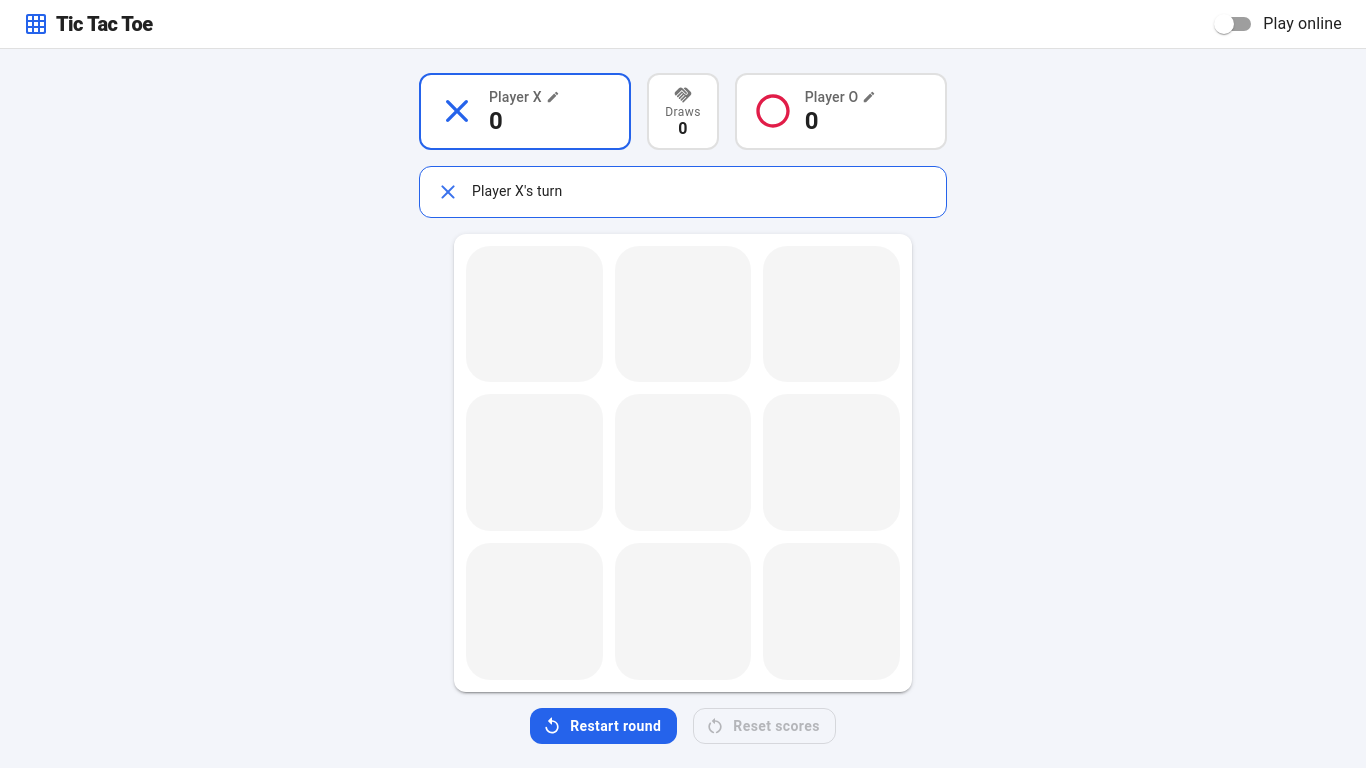
Main Component › renames a player from their card
The width and height of the screenshot is (1366, 768).
Click the button named "Edit name for player X" at (553, 97), box [544,88,562,106]
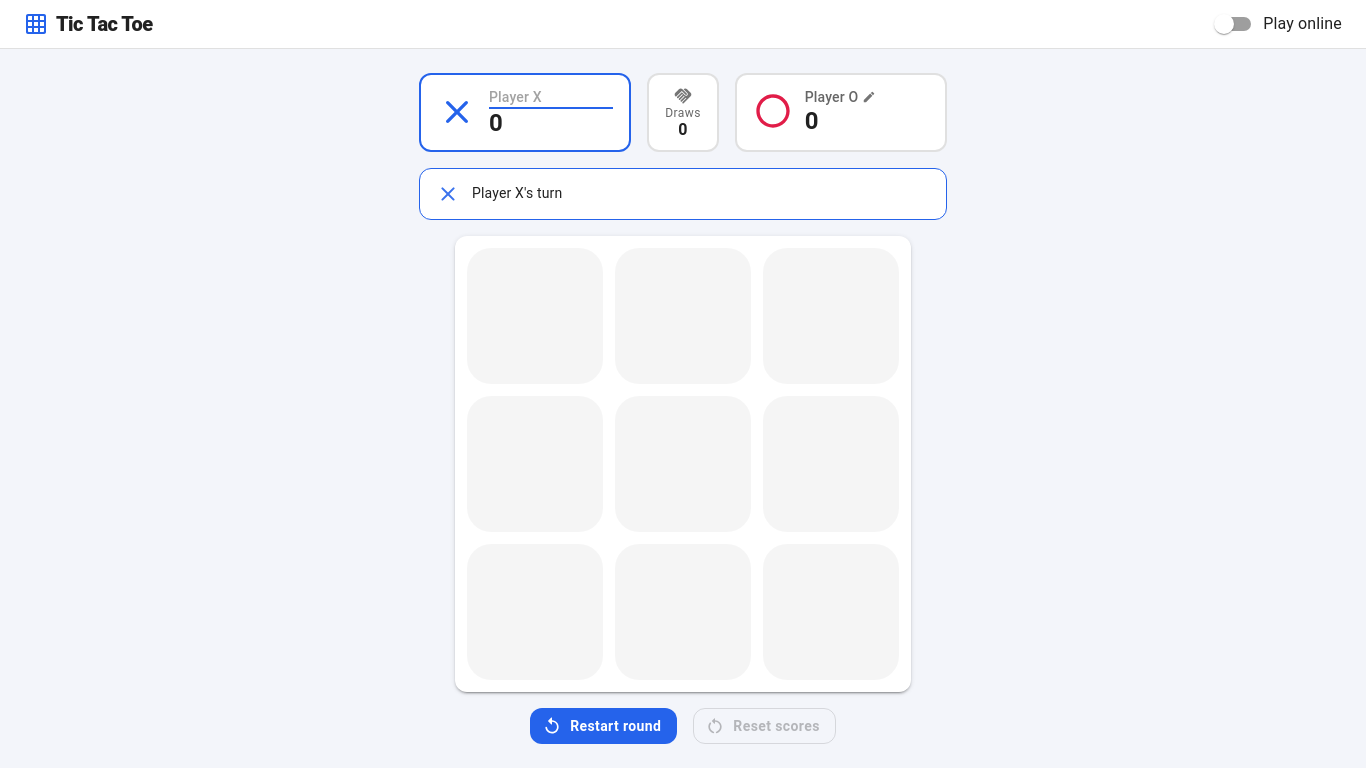
Type "Ada" into the field with placeholder "Player X" at (551, 97), box [489,87,613,107]
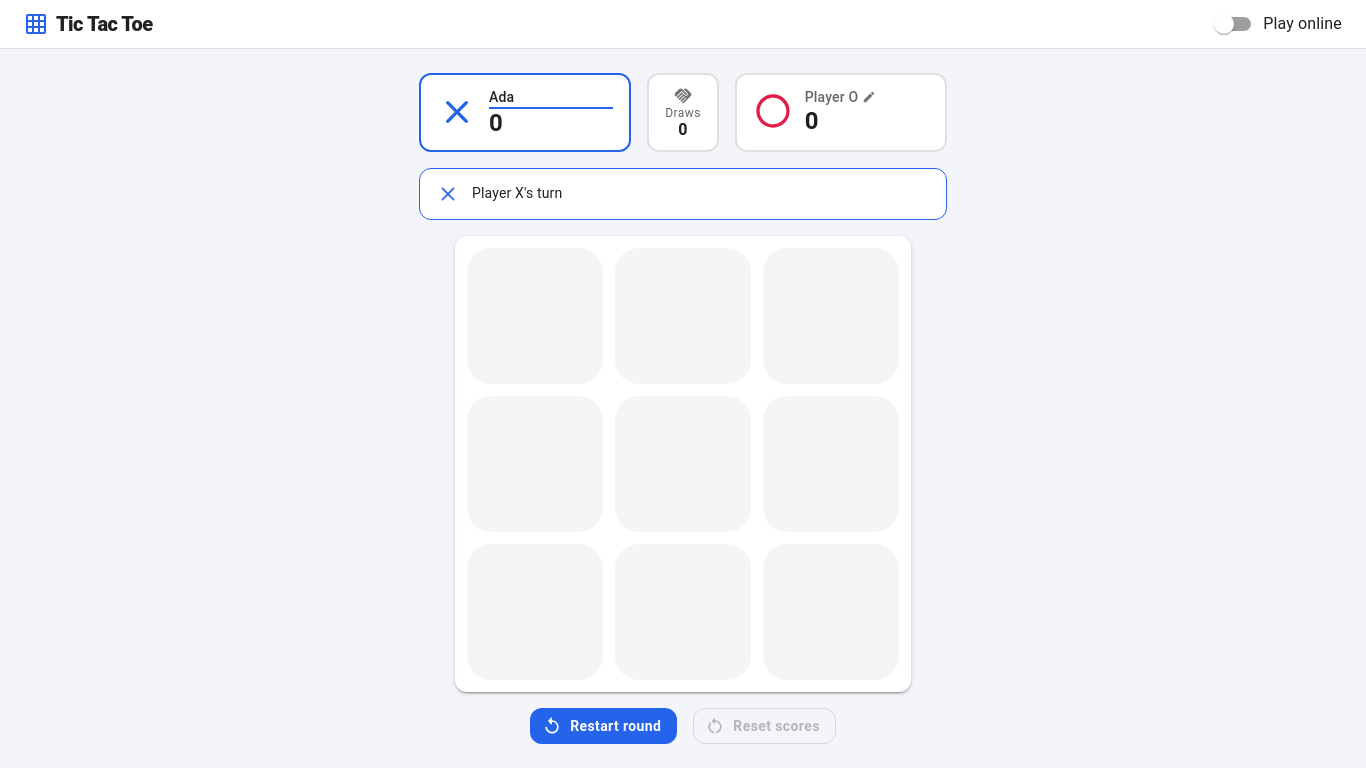
Press Enter in the field named "Name for player X", box [489,87,613,107]
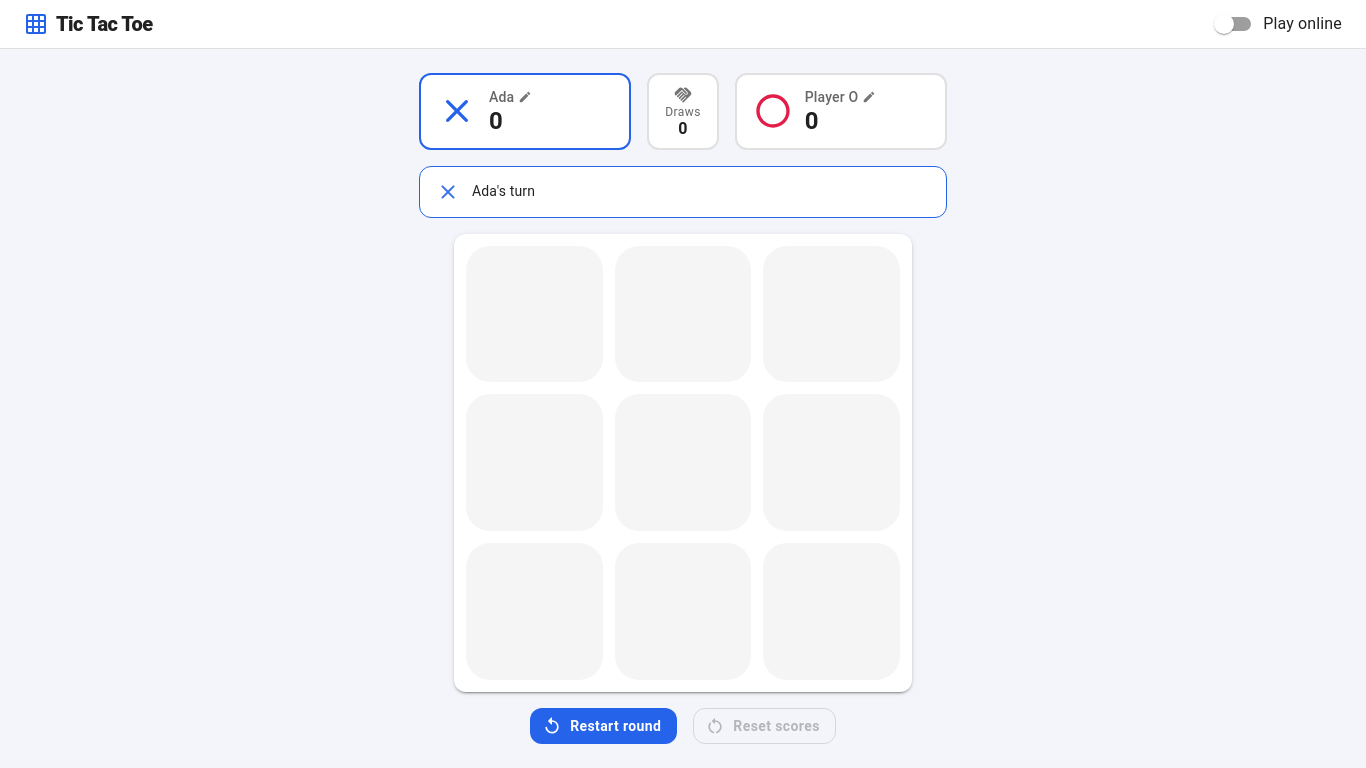
Check: the text "Ada's turn" is shown, box [472,183,535,199]
Check: the element showing "Ada 0 Draws 0 Player O 0" is shown, box [419,73,947,150]
